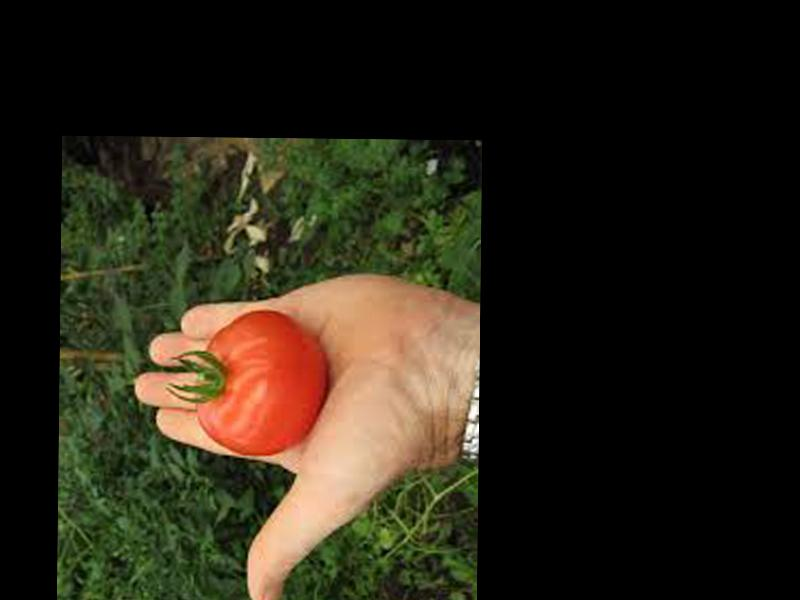Tomato: (197, 307, 326, 458)
